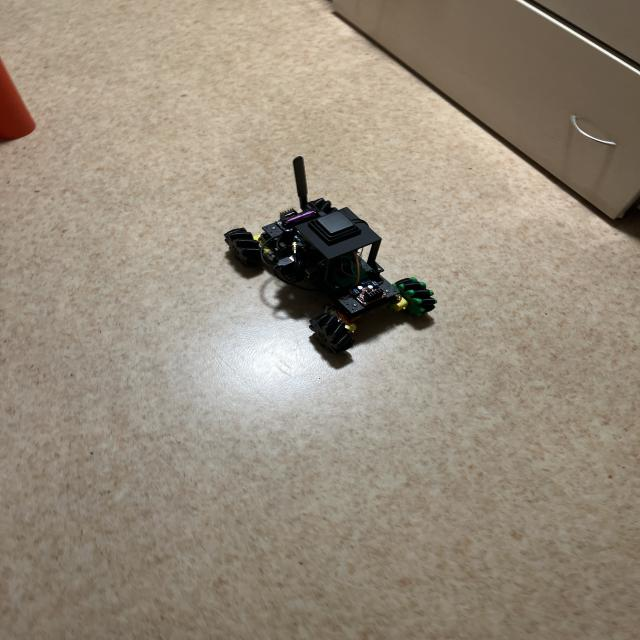robot: (225, 156, 437, 353)
